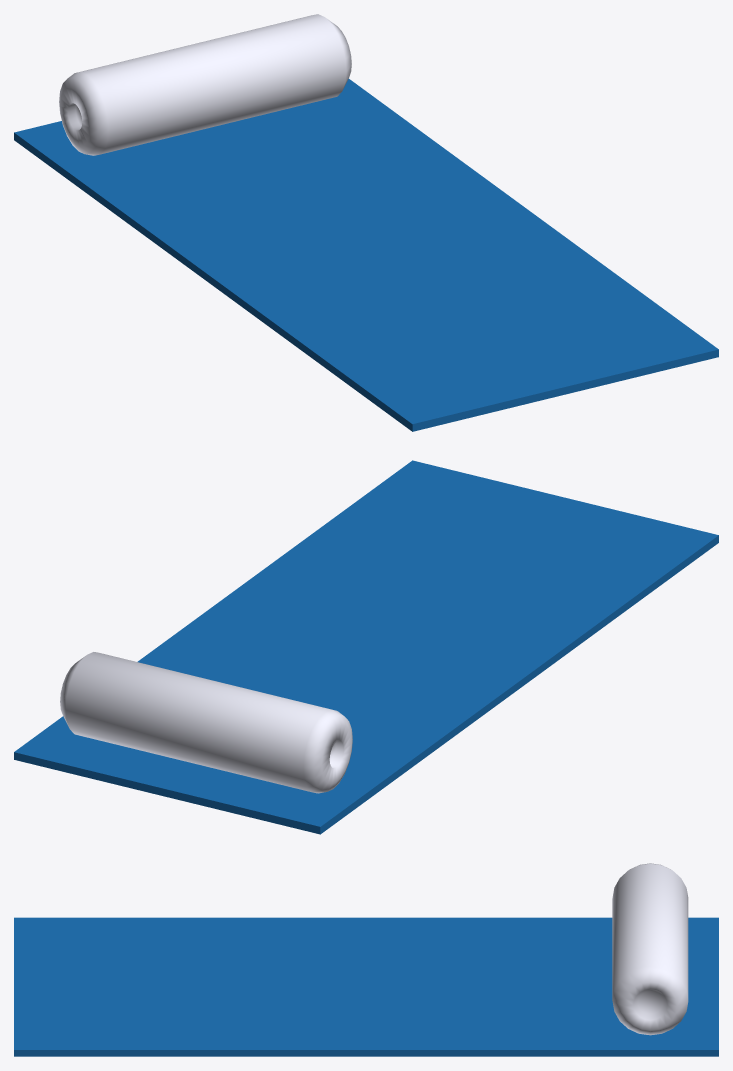
The model's file is Prop_WorkoutMat_01.fbx.
The picture shows the model from 3 angles, top to bottom: view 1: azimuth 30°, elevation 25°; view 2: azimuth 150°, elevation 25°; view 3: azimuth 270°, elevation 25°; orthographic projection. The views are drawn at different scales.
Parts seen in each view (by area): view 1: Prop_WorkoutMat_01; view 2: Prop_WorkoutMat_01; view 3: Prop_WorkoutMat_01.
Boxes of the visible parts, bbox=[...] form: Prop_WorkoutMat_01: bbox=[14, 14, 718, 431]; Prop_WorkoutMat_01: bbox=[14, 460, 718, 834]; Prop_WorkoutMat_01: bbox=[14, 863, 718, 1056].
Size of the model in its own units: 78.16 by 20.74 by 176.
